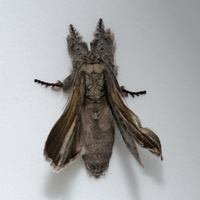insect: (35, 19, 162, 177)
